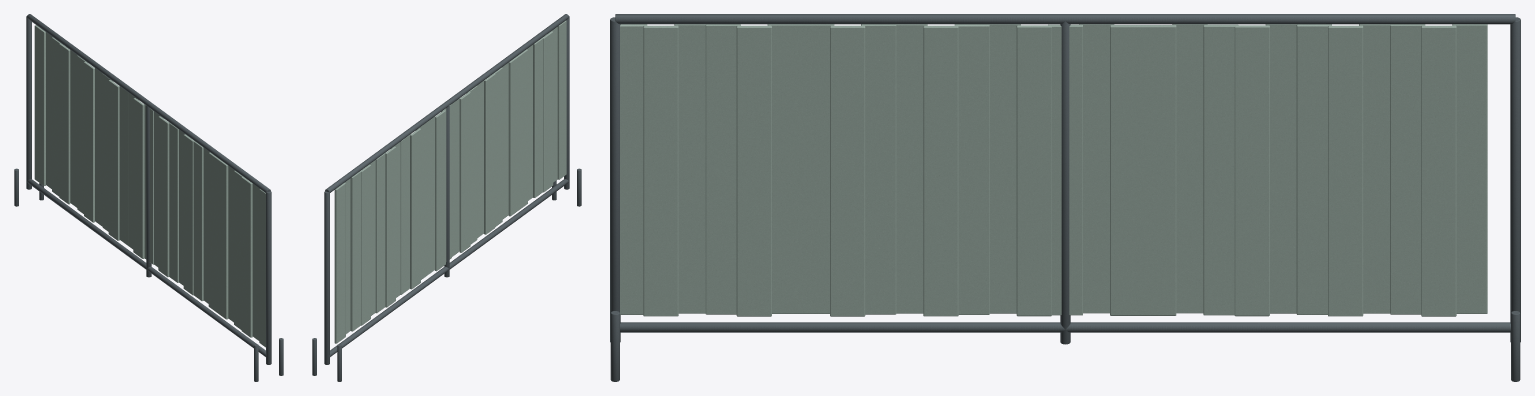
File: ClinicScreen.fbx
The picture shows the model from 3 angles, left to right: view 1: azimuth 30°, elevation 25°; view 2: azimuth 150°, elevation 25°; view 3: azimuth 270°, elevation 25°; orthographic projection. The views are drawn at different scales.
Visible parts, largest first — view 1: RiverClinicFabric_Surface__UnityExport, CinemaSteel_Surface.006__UnityExport; view 2: RiverClinicFabric_Surface__UnityExport, CinemaSteel_Surface.006__UnityExport; view 3: RiverClinicFabric_Surface__UnityExport, CinemaSteel_Surface.006__UnityExport.
Boxes of the visible parts, x1,y1,x2,y2 form: RiverClinicFabric_Surface__UnityExport: (34, 25, 265, 347); CinemaSteel_Surface.006__UnityExport: (14, 14, 283, 381); RiverClinicFabric_Surface__UnityExport: (334, 20, 566, 343); CinemaSteel_Surface.006__UnityExport: (312, 14, 581, 381); RiverClinicFabric_Surface__UnityExport: (620, 24, 1487, 316); CinemaSteel_Surface.006__UnityExport: (610, 14, 1520, 381).
Bounding box in the file's own units: 0.304 × 1.89 × 4.39.
